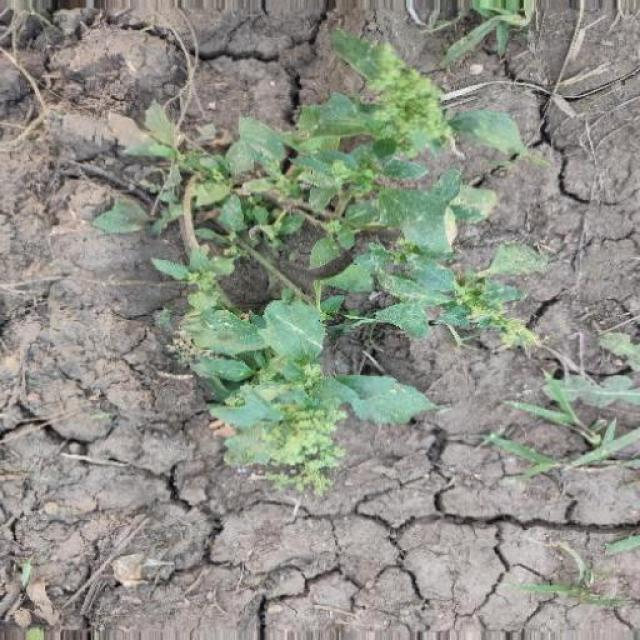weed: (150, 88, 519, 494)
